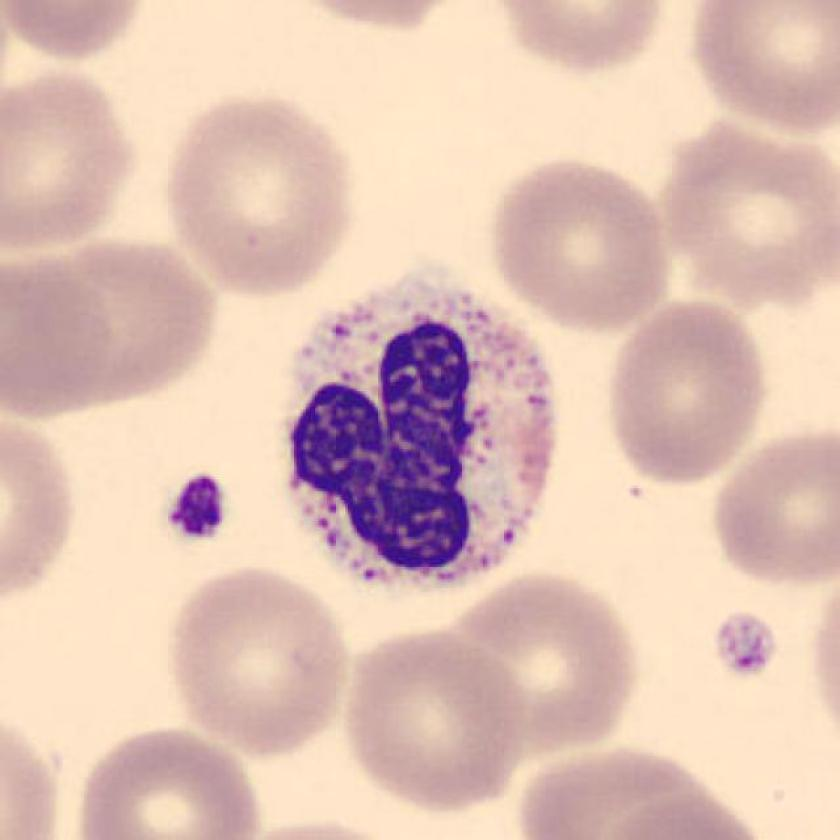neutrophil: (287, 267, 556, 584)
